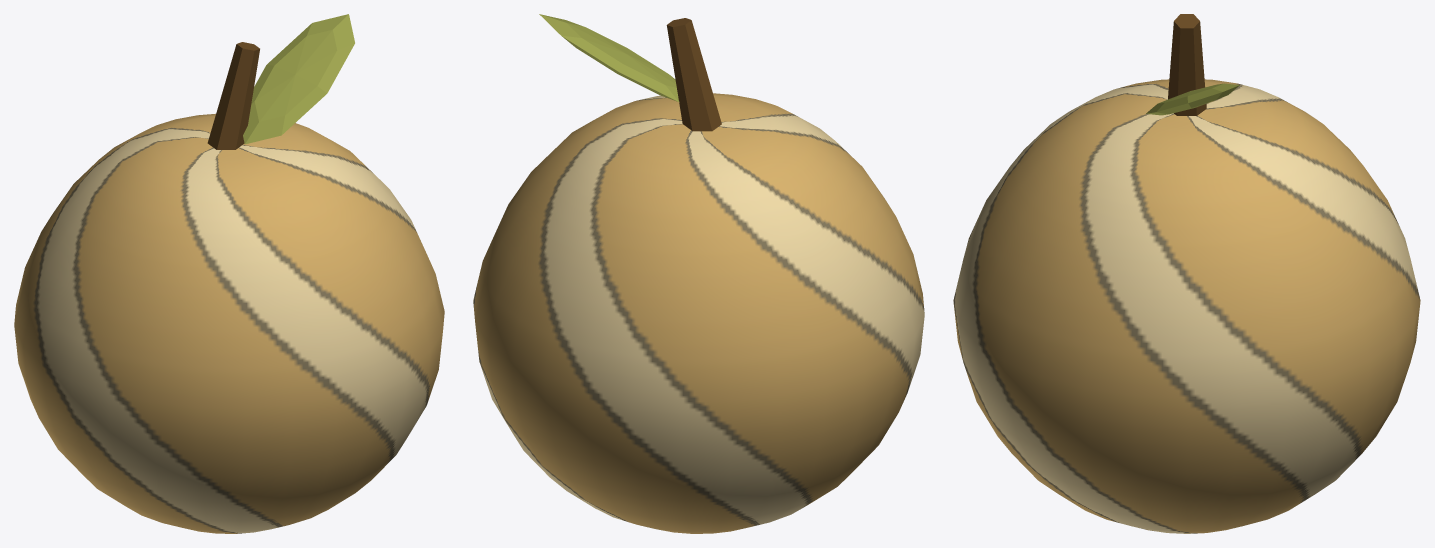
The model's file is Fruit_SunaSuna.fbx.
3 views of the same model, side by side, from view 1: azimuth 30°, elevation 25°; view 2: azimuth 150°, elevation 25°; view 3: azimuth 270°, elevation 25° (orthographic). The views are drawn at different scales.
Parts seen in each view (by area): view 1: Fruit_SunaSuna; view 2: Fruit_SunaSuna; view 3: Fruit_SunaSuna.
Part boxes in pixels (box(x1,y1,x2,y2)): Fruit_SunaSuna: box(14, 14, 444, 533); Fruit_SunaSuna: box(473, 14, 924, 533); Fruit_SunaSuna: box(953, 14, 1420, 533).
Size of the model in its own units: 1.6 by 1.9 by 1.6.
Materials: 1 (1 with a texture image).
